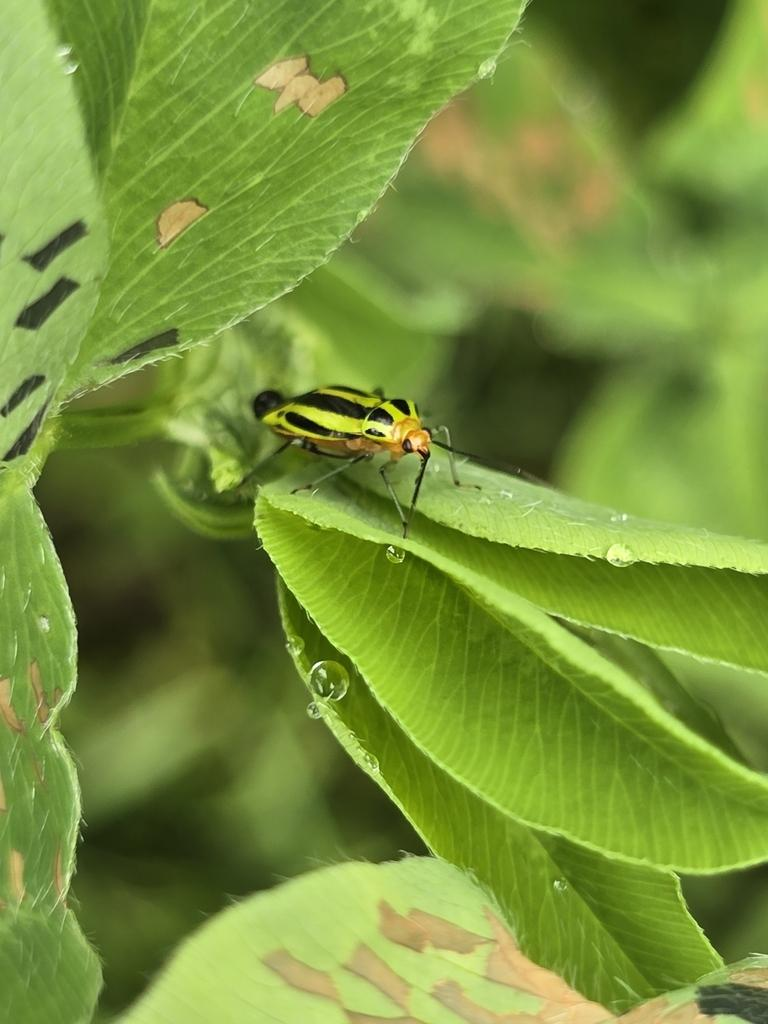plant_bugs: (206, 323, 513, 569)
